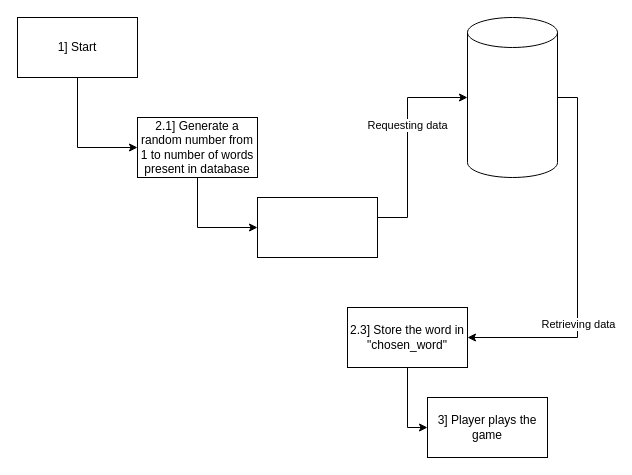
Some shapes in this 632 by 475 pixel diagram are drawn without their labels. Each missing label, with the centre of its shape:
"2.2] Request the word at the index of the random number generated" goes at [317,227].
"Database containing all the words for the game" goes at [512,97].
